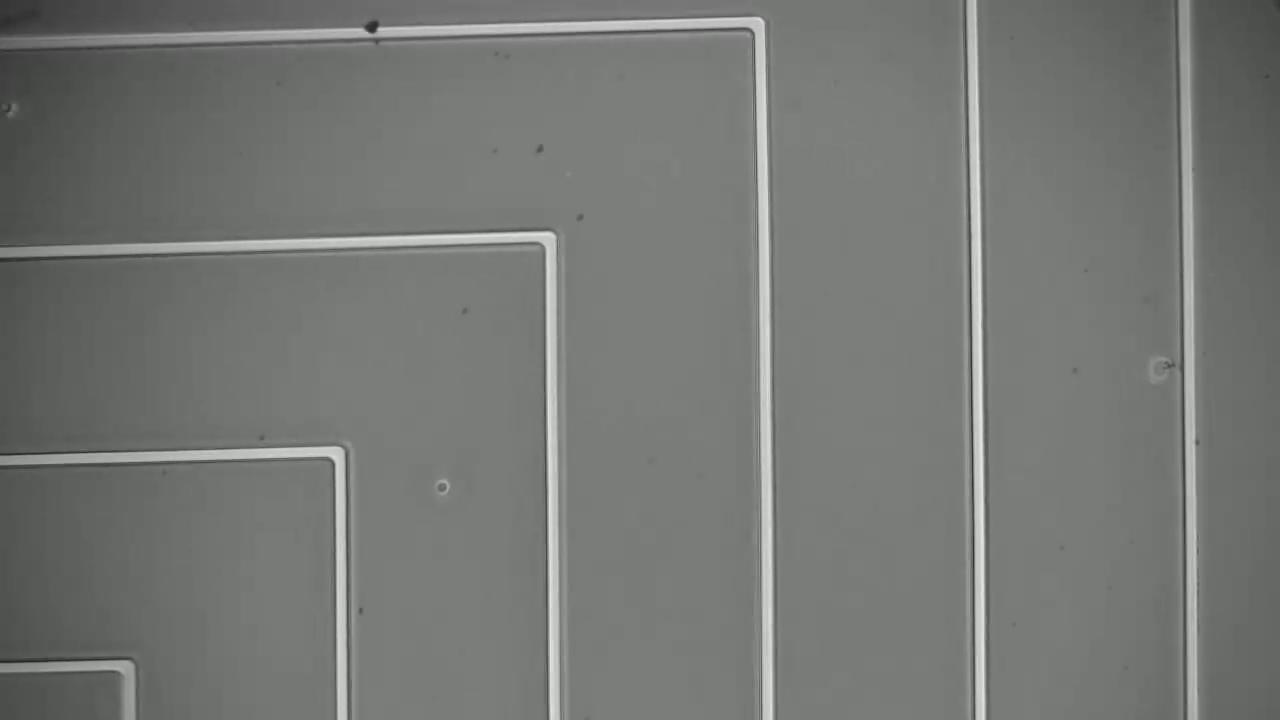stains_enbedded: (354, 16, 391, 47)
